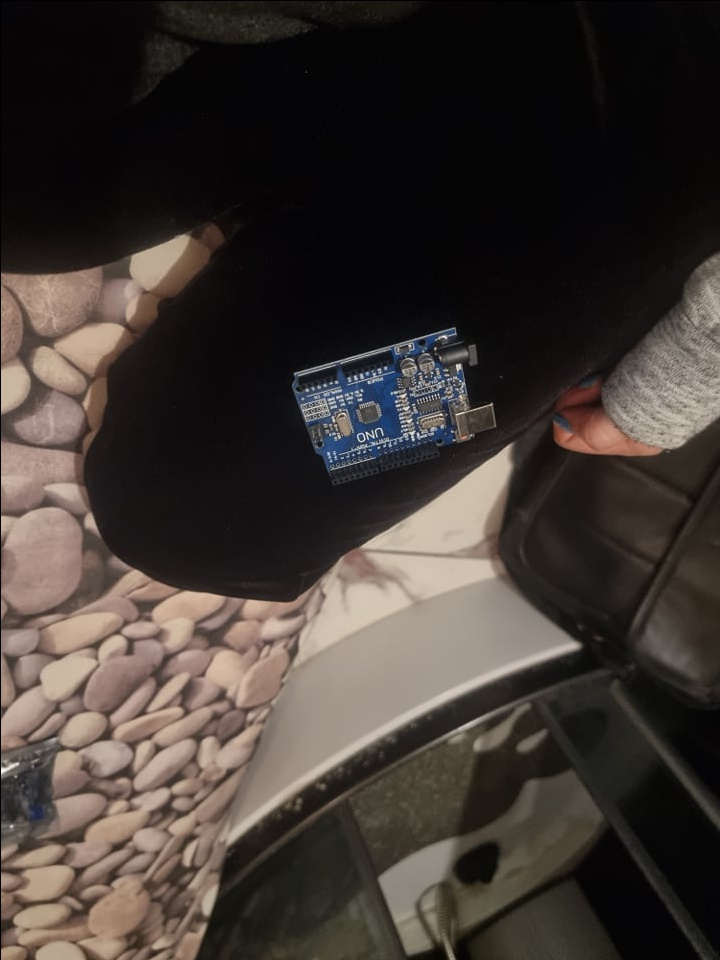UNO R3: (281, 322, 496, 486)
